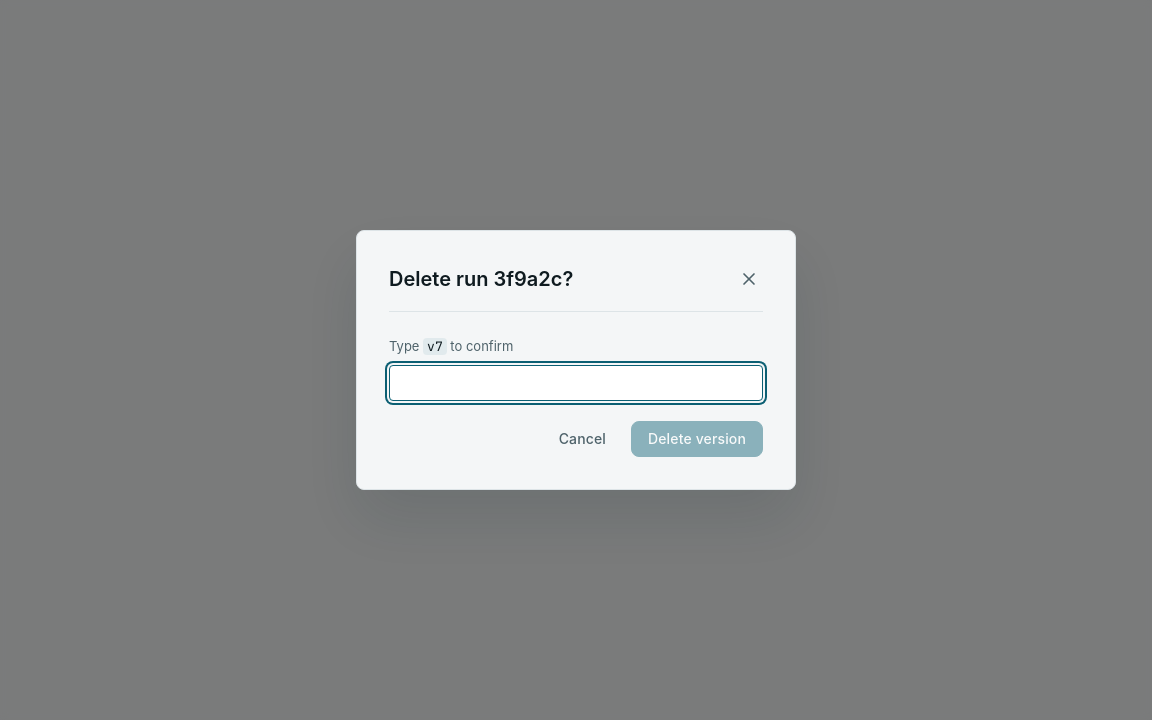
ConfirmDialog › typed confirmation › keeps confirm disabled until the text matches exactly
expect the button "Delete version" is disabled: met, box left=631, top=421, right=763, bottom=457
Type "v" into the field. click: (576, 383)
box: left=389, top=365, right=763, bottom=401
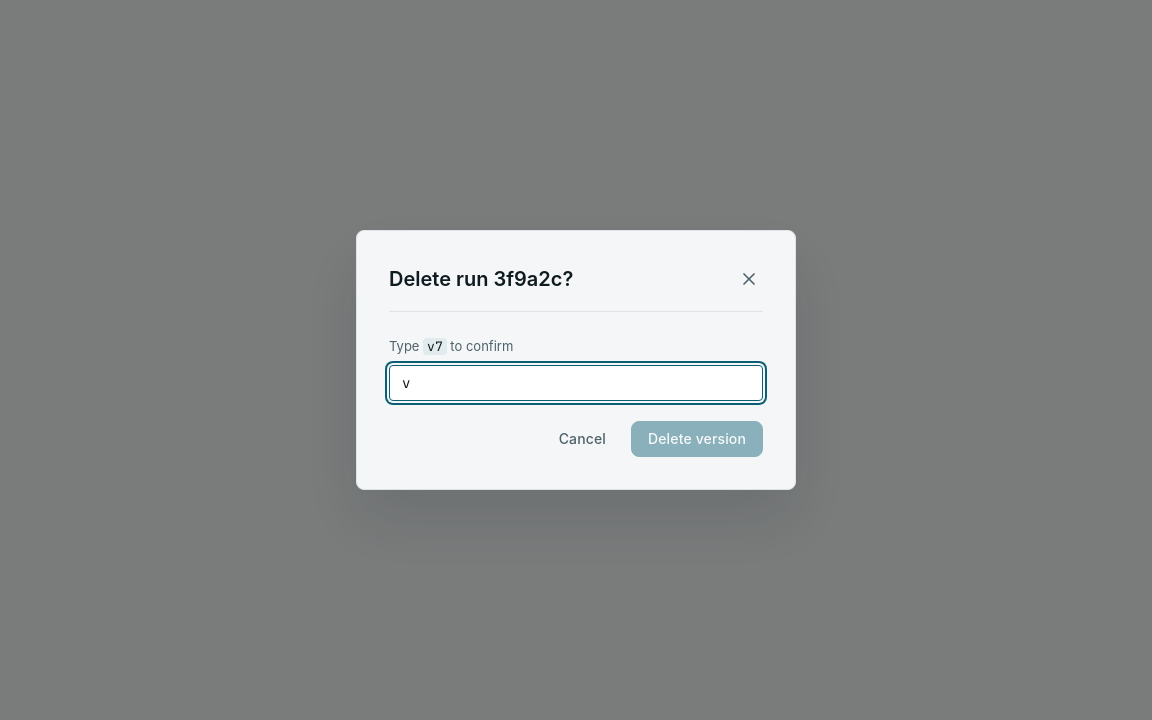
expect the button "Delete version" is disabled: met, box left=631, top=421, right=763, bottom=457
Type "7" into the field. click: (576, 383)
box: left=389, top=365, right=763, bottom=401
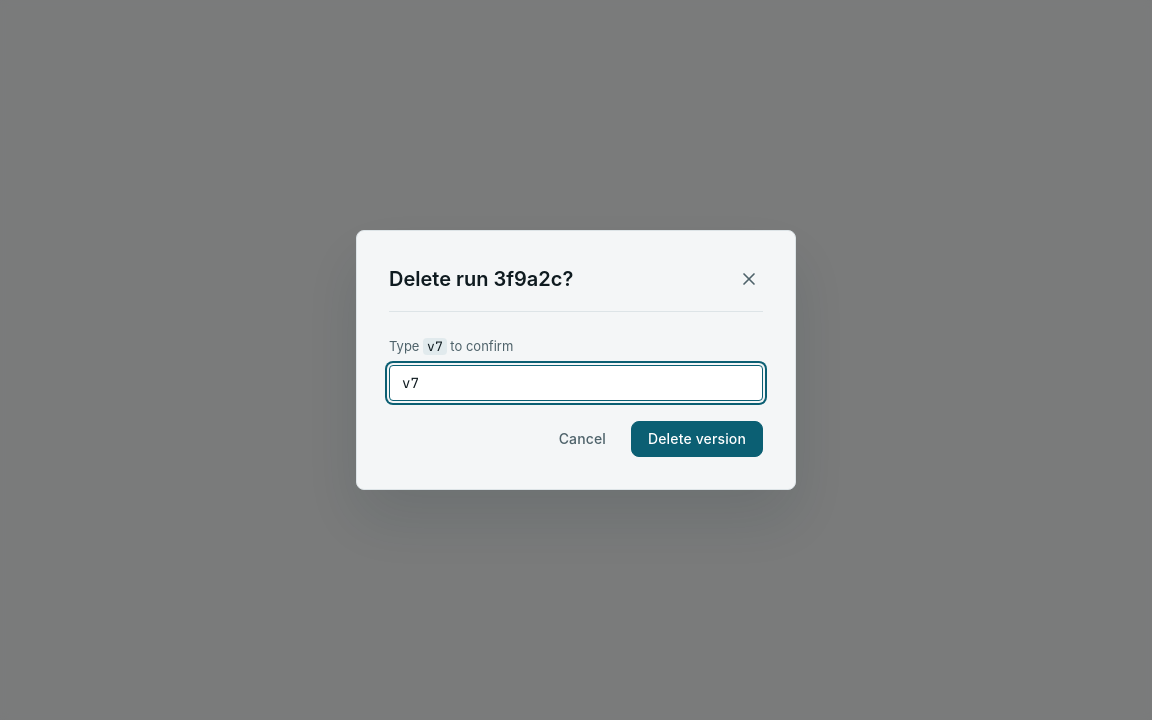
expect the button "Delete version" is enabled: met, box left=631, top=421, right=763, bottom=457
